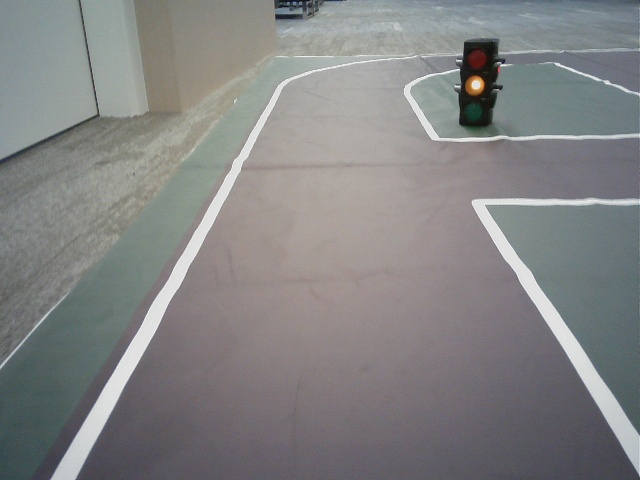yellow: (460, 44, 487, 121)
